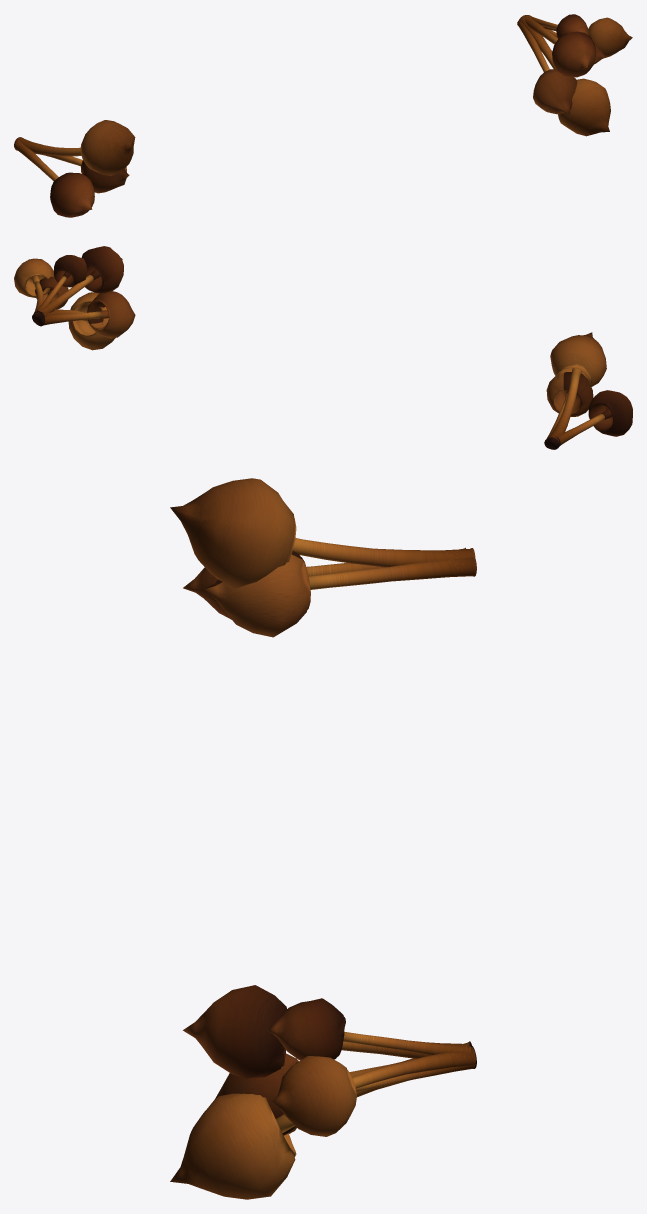
Rendered from psylocybe.glb.
3 renders of one model, top to bottom at view 1: azimuth 30°, elevation 25°; view 2: azimuth 150°, elevation 25°; view 3: azimuth 270°, elevation 25°, orthographic. The views are drawn at different scales.
Parts seen in each view (by area): view 1: Circle.003, Circle.002, Circle.001; view 2: Circle.002, Circle.003, Circle.001; view 3: Circle.002, Circle.003, Circle.001.
Part boxes in pixels (x1=…): Circle.003: x1=517, y1=15, x2=610, y2=136; Circle.002: x1=14, y1=120, x2=135, y2=217; Circle.001: x1=529, y1=14, x2=632, y2=64; Circle.002: x1=544, y1=332, x2=632, y2=449; Circle.003: x1=34, y1=246, x2=135, y2=350; Circle.001: x1=14, y1=255, x2=86, y2=322; Circle.002: x1=170, y1=478, x2=476, y2=637; Circle.003: x1=170, y1=985, x2=476, y2=1199; Circle.001: x1=266, y1=998, x2=475, y2=1136.
Size of the model in its own units: 0.1899 by 0.0383 by 0.0429.
Materials: 1 (1 with a texture image).
